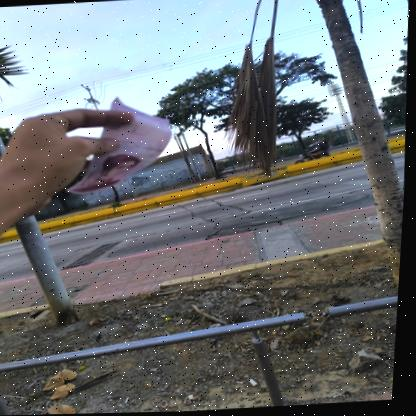one_hundred-front-vef: (65, 92, 178, 199)
